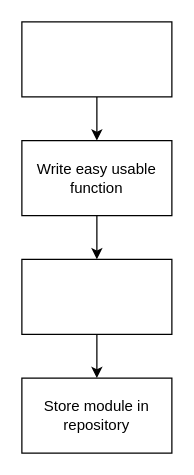
The diagram is 194 pixels wide and 475 high, and some of its shapes have lost their labels. Each missing label, with the centre of its shape:
Encapsulate function in a module: the point at 96,296
Find Code somewhere on the internet: the point at 96,59
